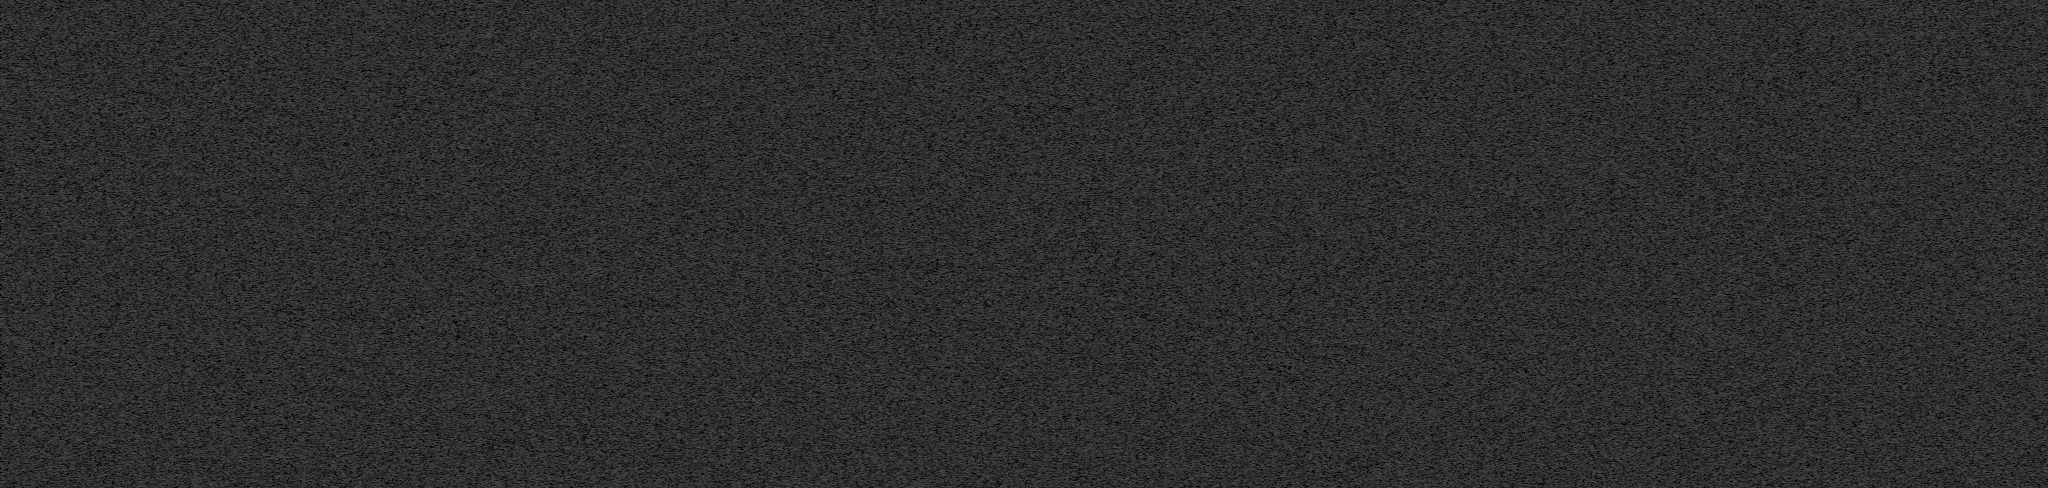wv_am: (1608, 0, 1614, 488), (569, 0, 575, 488), (867, 0, 872, 371), (867, 411, 872, 488), (867, 378, 872, 410), (867, 372, 872, 378)
wv_lsb: (665, 53, 674, 201), (261, 365, 268, 488), (666, 247, 673, 329), (666, 343, 673, 419), (261, 59, 268, 128), (263, 205, 268, 274), (665, 420, 673, 462), (665, 202, 673, 244), (263, 3, 268, 56), (263, 275, 268, 329), (263, 154, 268, 185), (666, 3, 673, 27), (263, 343, 268, 365), (260, 191, 268, 204), (666, 330, 673, 342), (666, 462, 673, 472), (667, 27, 673, 40), (263, 330, 268, 342), (667, 474, 673, 480), (666, 48, 673, 53), (261, 134, 266, 140), (667, 42, 673, 47), (263, 141, 266, 147), (263, 187, 266, 191), (263, 149, 266, 153), (667, 485, 673, 488), (263, 129, 266, 132)
